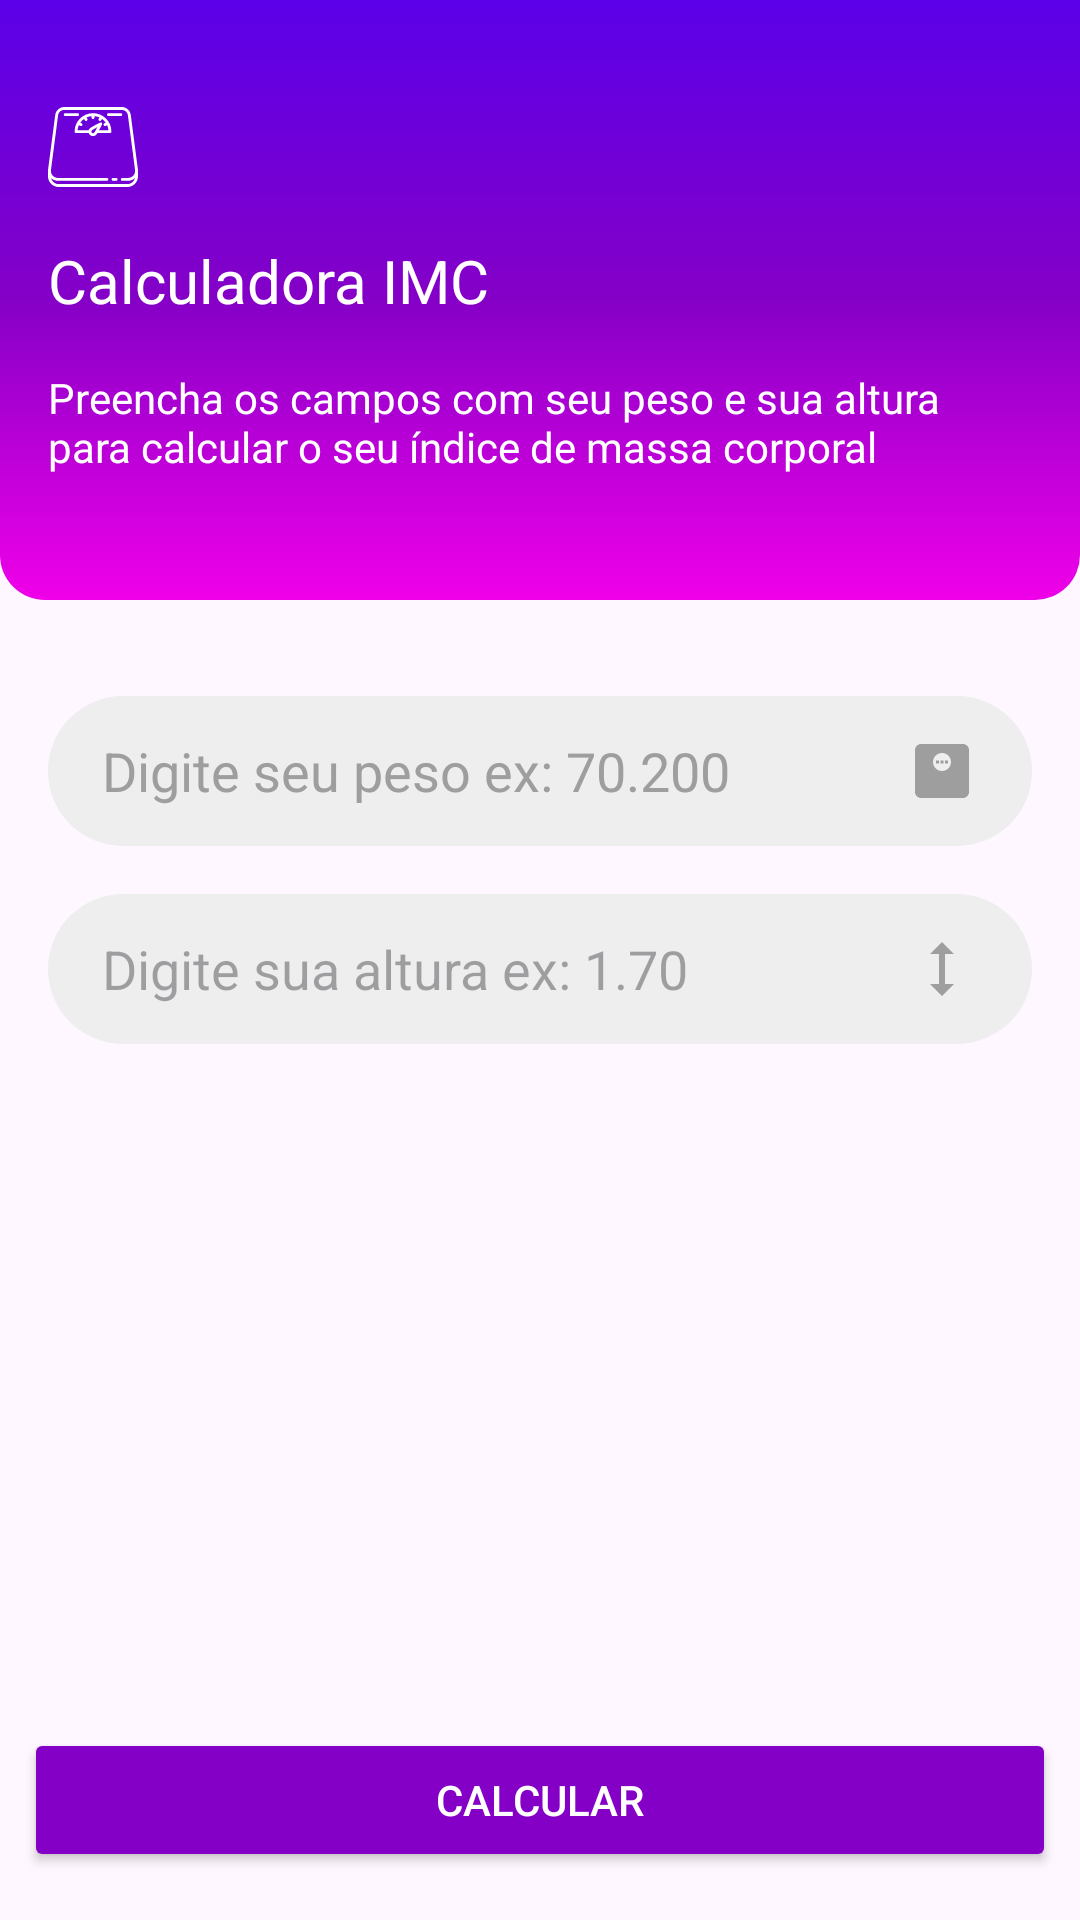

Icon bounding boxes for this 1080*1920 phone screenshot, format [x1, y1, x2, y2]:
balanca: [48, 107, 138, 187]
